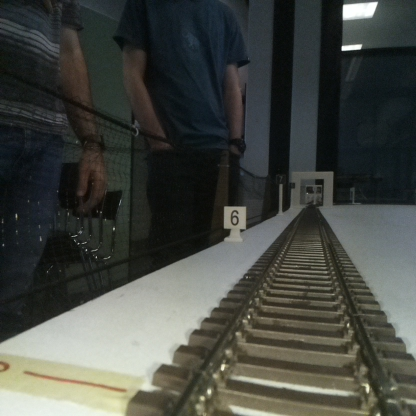black-info-7: (276, 174, 286, 214)
white-stop-6: (224, 206, 245, 240)
